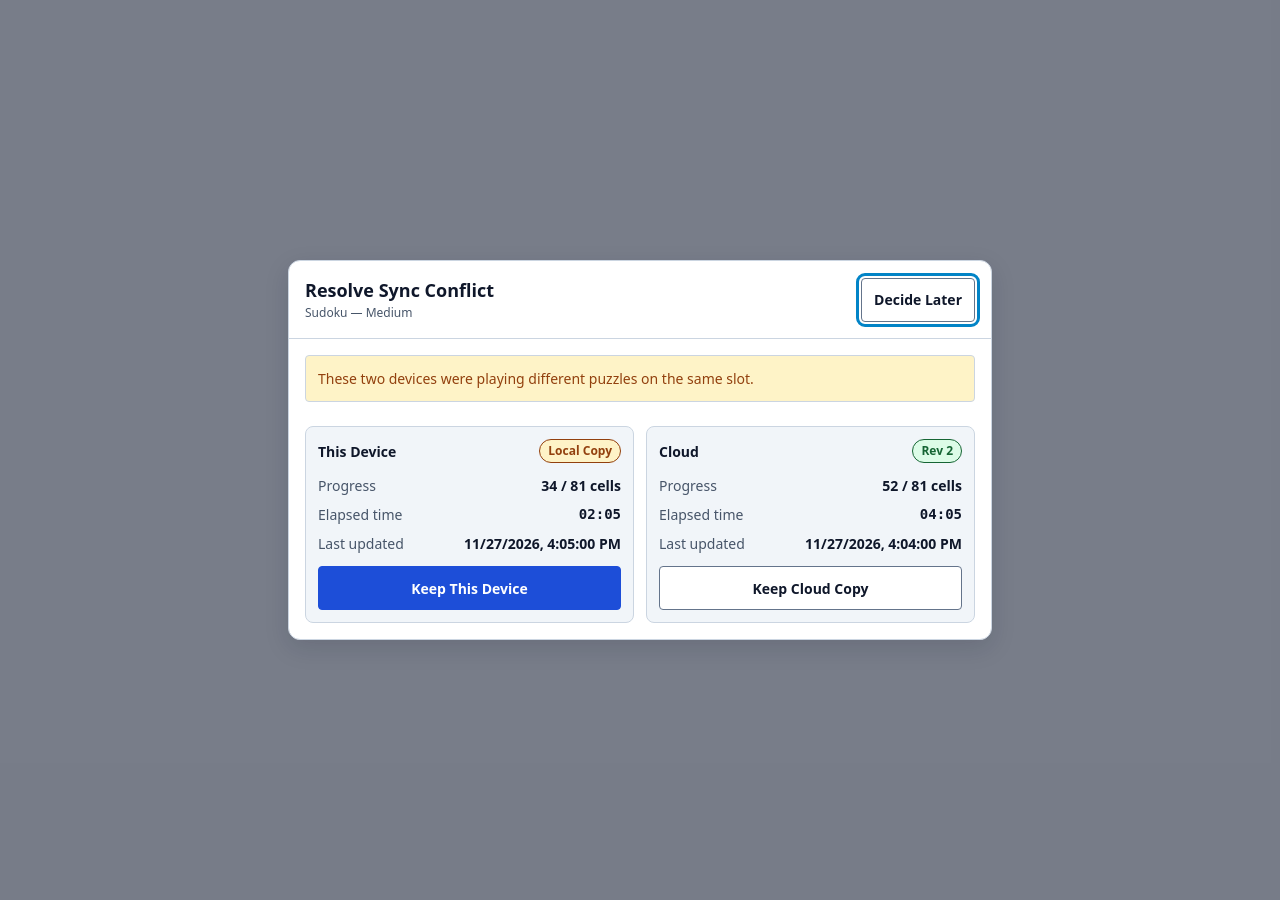
SyncConflictModal › displays inline error alert if resolving a conflict rejects
What coordinates should you click on to do the following:
click the button "Keep This Device"
I would click on:
 (470, 588)
Its box is [318, 566, 621, 610].
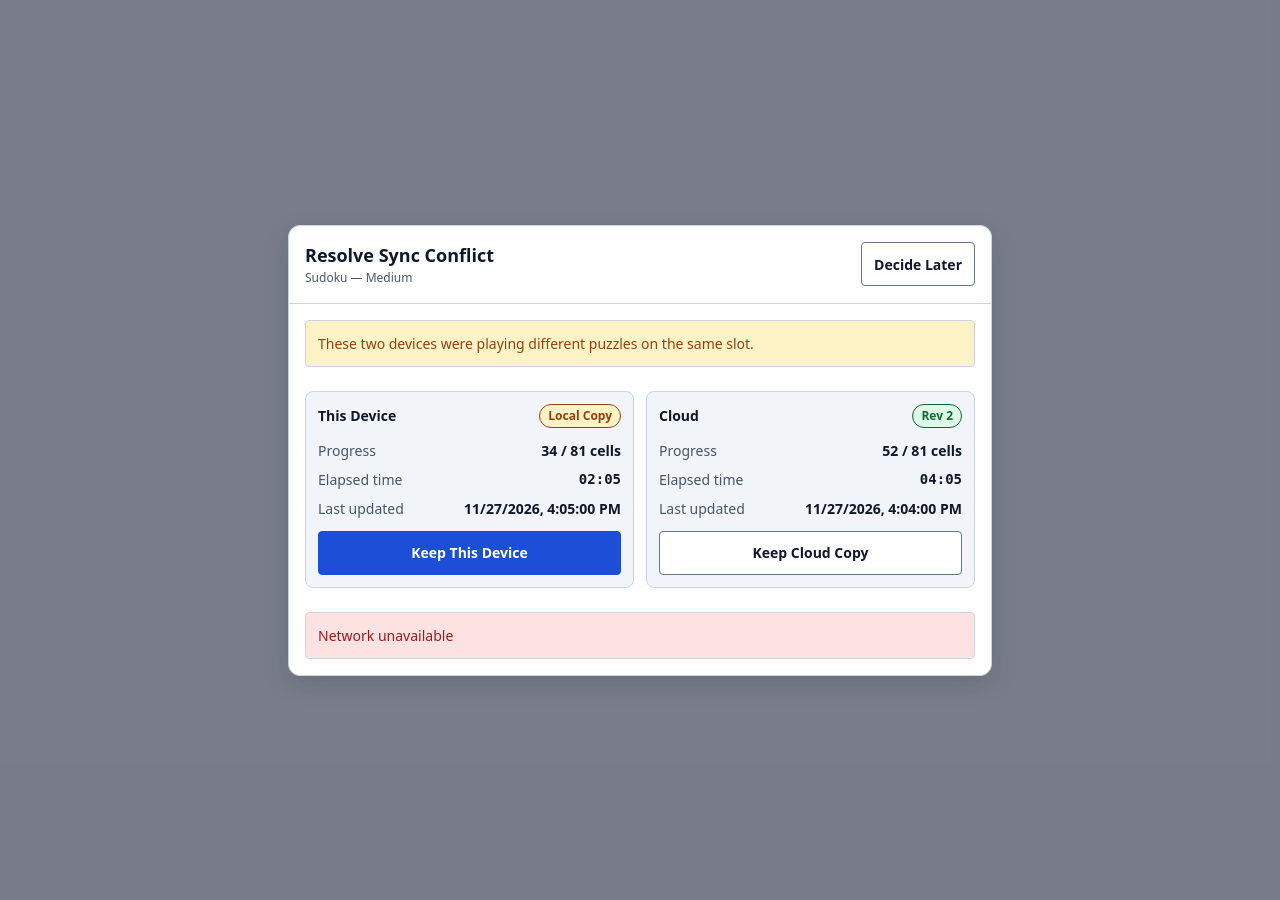
Now the message "Network unavailable" is shown, box [305, 612, 975, 658]
